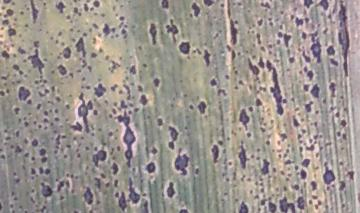tarspot: (265, 57, 287, 115), (335, 1, 350, 80), (119, 111, 136, 165), (76, 90, 93, 120), (173, 149, 190, 178), (127, 176, 142, 205), (73, 34, 89, 61), (29, 48, 44, 76), (236, 139, 250, 169), (226, 16, 240, 45), (90, 147, 108, 168), (27, 1, 42, 26), (165, 122, 178, 150), (161, 19, 180, 38), (277, 193, 295, 213), (237, 107, 250, 134), (311, 38, 323, 64), (322, 165, 336, 187), (116, 188, 129, 211), (246, 57, 259, 79), (91, 79, 106, 98), (37, 179, 52, 198), (200, 46, 213, 67), (15, 85, 31, 102), (177, 40, 192, 56), (147, 20, 157, 44), (165, 179, 176, 200), (210, 141, 219, 166), (189, 1, 201, 19), (258, 155, 268, 175), (56, 62, 69, 77), (68, 121, 83, 134), (61, 45, 73, 61), (83, 186, 93, 205), (101, 20, 111, 39), (310, 83, 321, 100), (282, 31, 293, 48), (144, 161, 158, 174), (207, 75, 219, 90), (54, 1, 69, 13), (290, 113, 301, 129), (300, 49, 311, 65), (138, 91, 148, 108), (197, 98, 207, 115), (109, 161, 121, 175), (296, 194, 305, 212), (254, 95, 264, 111), (302, 100, 314, 113), (300, 156, 312, 169), (127, 63, 139, 76), (297, 167, 308, 181), (316, 1, 330, 12), (302, 1, 316, 12), (1, 48, 12, 62), (278, 131, 290, 143), (293, 17, 305, 29), (154, 117, 166, 129), (29, 136, 40, 149), (326, 44, 337, 57), (309, 179, 319, 193), (17, 44, 27, 58), (177, 203, 191, 213), (151, 76, 162, 88), (239, 200, 249, 213), (159, 1, 172, 11), (119, 98, 129, 111), (338, 180, 347, 194), (53, 93, 64, 104), (268, 198, 276, 213), (305, 68, 315, 80), (4, 6, 16, 16), (32, 37, 42, 49), (304, 143, 317, 152), (82, 2, 91, 15), (202, 1, 216, 9), (13, 104, 21, 118), (282, 158, 296, 166), (6, 27, 17, 37), (255, 16, 265, 27), (346, 170, 356, 181), (264, 138, 274, 149), (187, 101, 196, 113), (300, 29, 308, 42), (339, 119, 348, 130), (12, 62, 21, 73), (116, 13, 127, 22), (302, 81, 310, 93), (230, 48, 237, 61), (28, 166, 37, 176), (36, 166, 45, 176), (44, 166, 52, 177), (40, 155, 49, 164), (14, 144, 22, 154), (113, 176, 119, 189), (286, 56, 297, 63), (39, 147, 47, 156), (89, 50, 97, 59), (119, 27, 128, 35), (342, 130, 347, 143), (93, 1, 101, 9), (93, 109, 99, 118)
